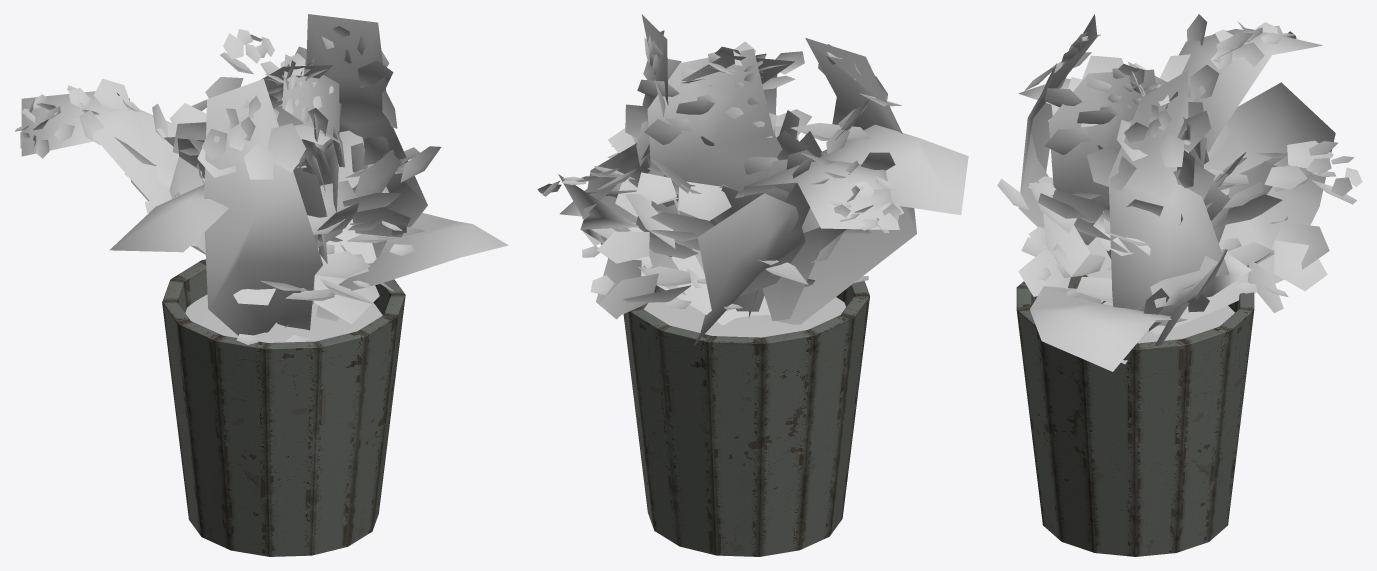
File: SM_PlantG.FBX
3 renders of one model, left to right at view 1: azimuth 30°, elevation 25°; view 2: azimuth 150°, elevation 25°; view 3: azimuth 270°, elevation 25°, orthographic. The views are drawn at different scales.
Visible parts, largest first — view 1: SM_PlantG_LOD0; view 2: SM_PlantG_LOD0; view 3: SM_PlantG_LOD0.
Part boxes in pixels (<box>): SM_PlantG_LOD0: <box>14,14,508,556</box>; SM_PlantG_LOD0: <box>537,14,968,556</box>; SM_PlantG_LOD0: <box>997,14,1362,556</box>.
Size of what is drawn, in the model's own units: 48.64 by 54.98 by 38.66.
